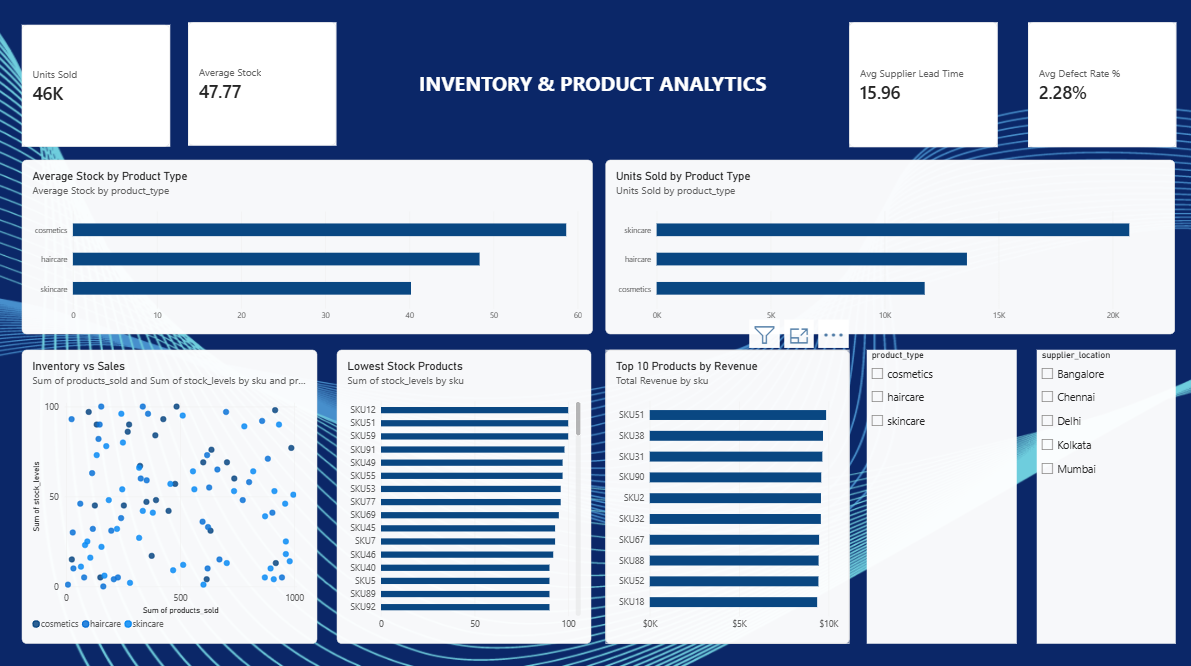

Layout of this report page (visuals, bound fields, positions):
{"tool":"powerbi","page":{"name":"Inventory & Product Analysis","canvas":[1920,1080],"ordinal":1},"visuals":[{"type":"cardVisual","fields":{"Data":["supply_chain_analytics supply_chain_data.Units Sold"]},"box":[45,45,237.5,195],"z":0},{"type":"cardVisual","fields":{"Data":["supply_chain_analytics supply_chain_data.Average Stock"]},"box":[312.5,42.5,237.5,197.5],"z":1000},{"type":"cardVisual","fields":{"Data":["supply_chain_analytics supply_chain_data.Avg Supplier Lead Time"]},"box":[1370,42.5,237.5,200],"z":2000},{"type":"cardVisual","fields":{"Data":["supply_chain_analytics supply_chain_data.Avg Defect Rate %"]},"box":[1655,42.5,237.5,200],"z":3000},{"type":"clusteredBarChart","title":"Average Stock by Product Type","fields":{"Category":["supply_chain_analytics supply_chain_data.product_type"],"Y":["supply_chain_analytics supply_chain_data.Average Stock"]},"box":[46.2,261.5,913.5,278.8],"z":4000},{"type":"clusteredBarChart","title":"Units Sold by Product Type","fields":{"Category":["supply_chain_analytics supply_chain_data.product_type"],"Y":["supply_chain_analytics supply_chain_data.Units Sold"]},"box":[980.8,261.5,911.5,278.8],"z":5000},{"type":"scatterChart","title":"Inventory vs Sales","fields":{"Category":["supply_chain_analytics supply_chain_data.sku"],"Series":["supply_chain_analytics supply_chain_data.product_type"],"X":["Sum(supply_chain_analytics supply_chain_data.products_sold)"],"Y":["Sum(supply_chain_analytics supply_chain_data.stock_levels)"]},"box":[45,565,472.5,470],"z":6000},{"type":"clusteredBarChart","title":"Top 10 Products by Revenue","fields":{"Category":["supply_chain_analytics supply_chain_data.sku"],"Y":["supply_chain_analytics supply_chain_data.Total Revenue"]},"box":[980,565,390,470],"z":7000},{"type":"clusteredBarChart","title":"Lowest Stock Products","fields":{"Category":["supply_chain_analytics supply_chain_data.sku"],"Y":["Sum(supply_chain_analytics supply_chain_data.stock_levels)"]},"box":[550,565,407.5,470],"z":8000},{"type":"slicer","fields":{"Values":["supply_chain_analytics supply_chain_data.product_type"]},"box":[1397.5,565,240,470],"z":8001},{"type":"slicer","fields":{"Values":["supply_chain_analytics supply_chain_data.supplier_location"]},"box":[1670,565,222.5,470],"z":8002},{"type":"textbox","box":[662.5,117.5,595,50],"z":8003}]}

Visuals, with their boxes in screenshot pixels (x1, y1, x2, y2), scaled from the page's 1920x1080 canvas onto the 1191x666 screenshot:
cardVisual - supply_chain_analytics supply_chain_data.Units Sold: <box>28,28,175,148</box>
cardVisual - supply_chain_analytics supply_chain_data.Average Stock: <box>194,26,341,148</box>
cardVisual - supply_chain_analytics supply_chain_data.Avg Supplier Lead Time: <box>850,26,997,150</box>
cardVisual - supply_chain_analytics supply_chain_data.Avg Defect Rate %: <box>1027,26,1174,150</box>
"Average Stock by Product Type" clusteredBarChart: <box>29,161,595,333</box>
"Units Sold by Product Type" clusteredBarChart: <box>608,161,1174,333</box>
"Inventory vs Sales" scatterChart: <box>28,348,321,638</box>
"Top 10 Products by Revenue" clusteredBarChart: <box>608,348,850,638</box>
"Lowest Stock Products" clusteredBarChart: <box>341,348,594,638</box>
slicer - supply_chain_analytics supply_chain_data.product_type: <box>867,348,1016,638</box>
slicer - supply_chain_analytics supply_chain_data.supplier_location: <box>1036,348,1174,638</box>
textbox: <box>411,72,780,103</box>
